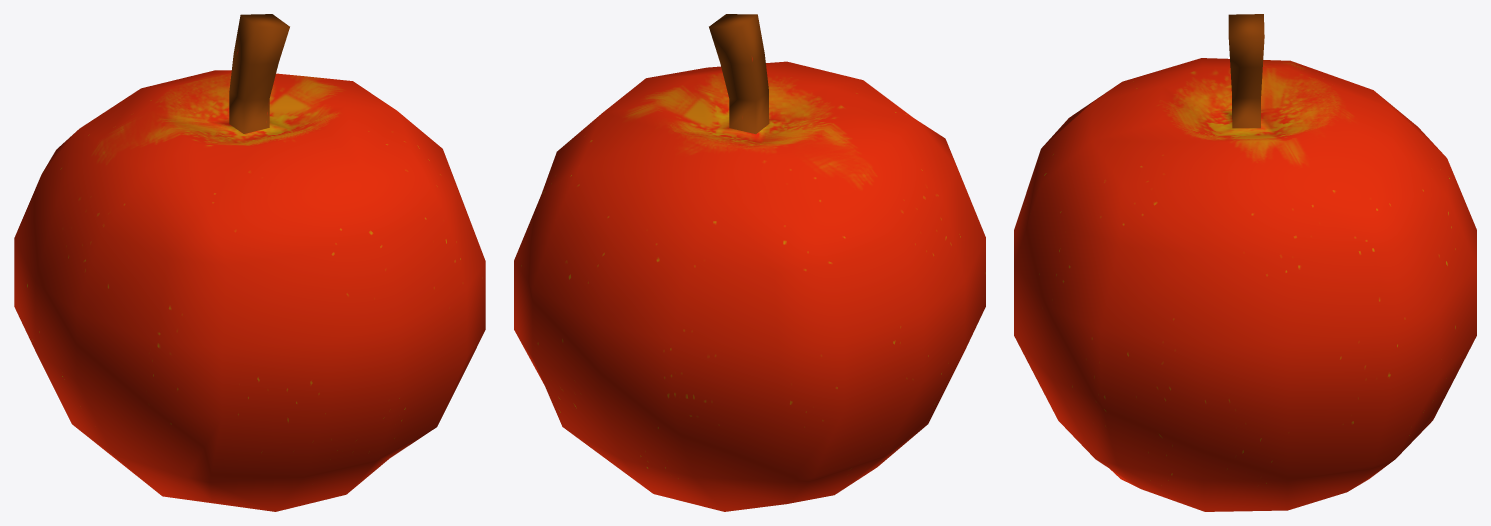
Rendered from apple_model_205.fbx.
3 views of the same model, side by side, from view 1: azimuth 30°, elevation 25°; view 2: azimuth 150°, elevation 25°; view 3: azimuth 270°, elevation 25° (orthographic). The views are drawn at different scales.
Parts seen in each view (by area): view 1: pCube1; view 2: pCube1; view 3: pCube1.
Boxes of the visible parts, left/top/right/bottom form: pCube1: left=14, top=14, right=485, bottom=511; pCube1: left=514, top=14, right=985, bottom=511; pCube1: left=1014, top=14, right=1476, bottom=511.
Bounding box in the file's own units: 51.34 × 56.81 × 51.84.
